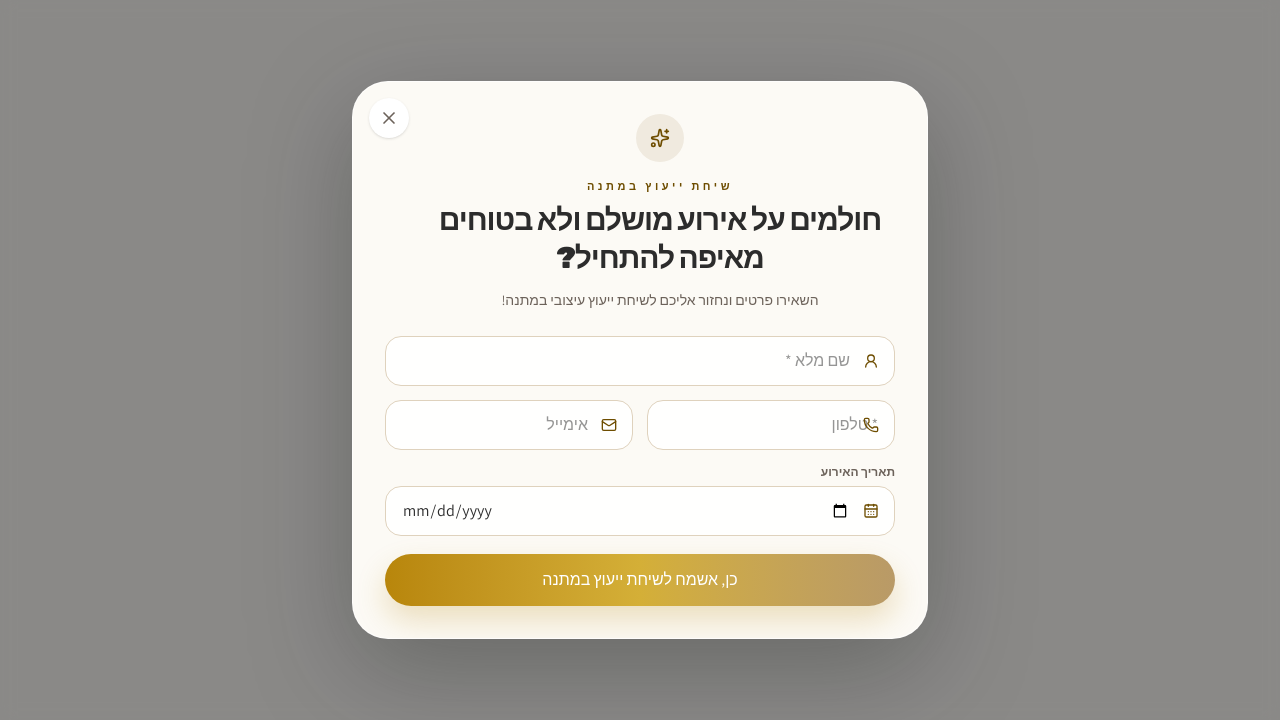
Scenario: LeadCaptureModal › shows a recoverable error when lead submission fails and re-enables submit
Type "ניסן סיני" into the field labelled "שם מלא" at (640, 361), box [385, 336, 895, 386]
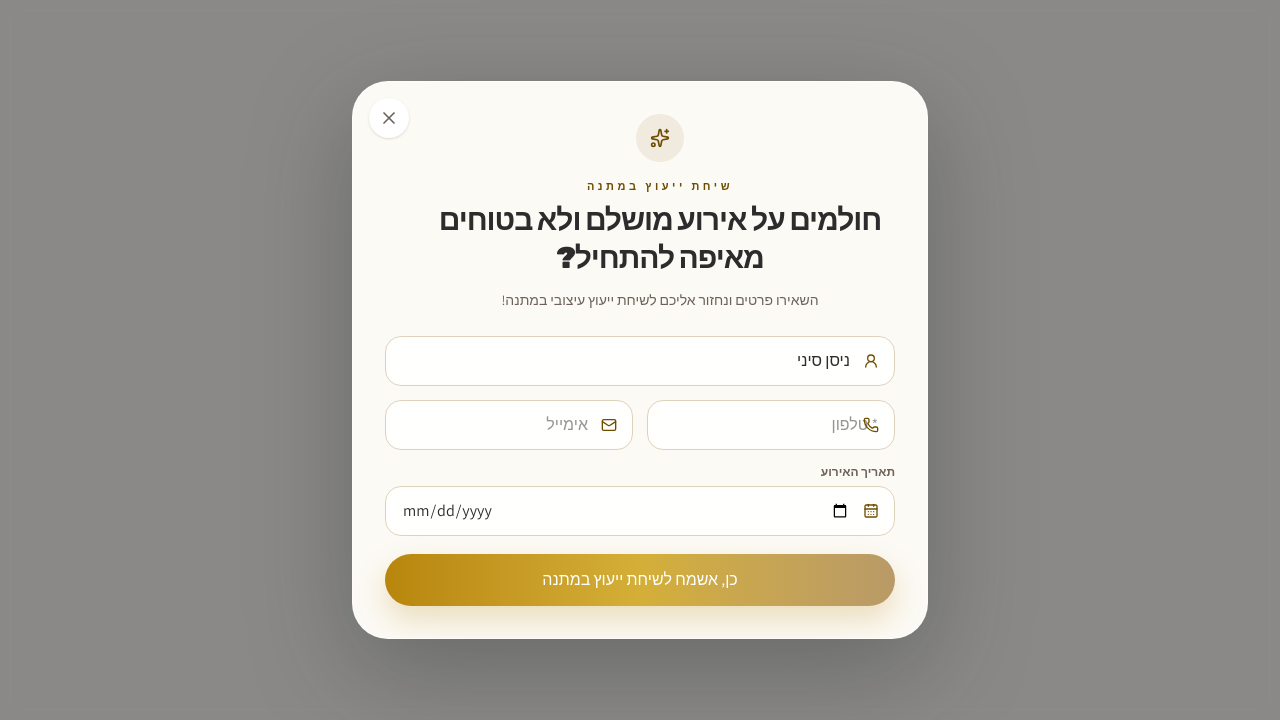
Type "054-1234567" into the field labelled "טלפון" at (771, 425), box [647, 400, 895, 450]
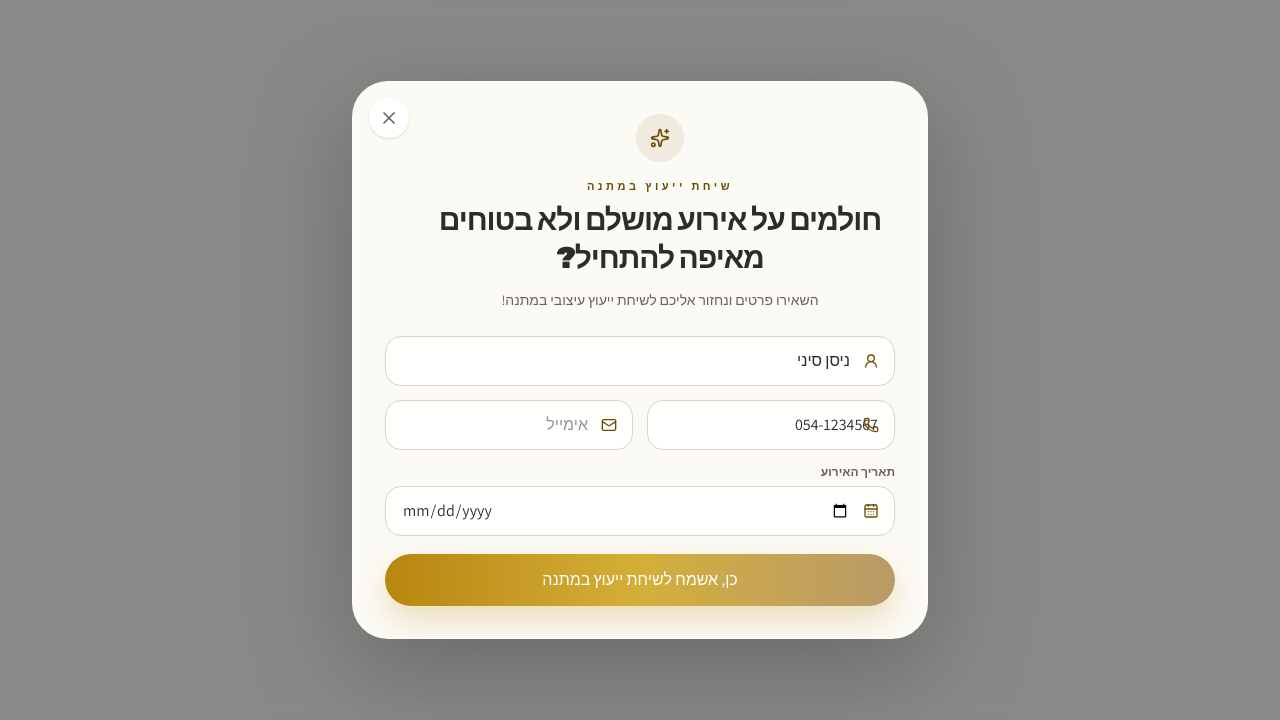
Click the button "כן, אשמח לשיחת ייעוץ במתנה" at (640, 580), box [385, 554, 895, 606]
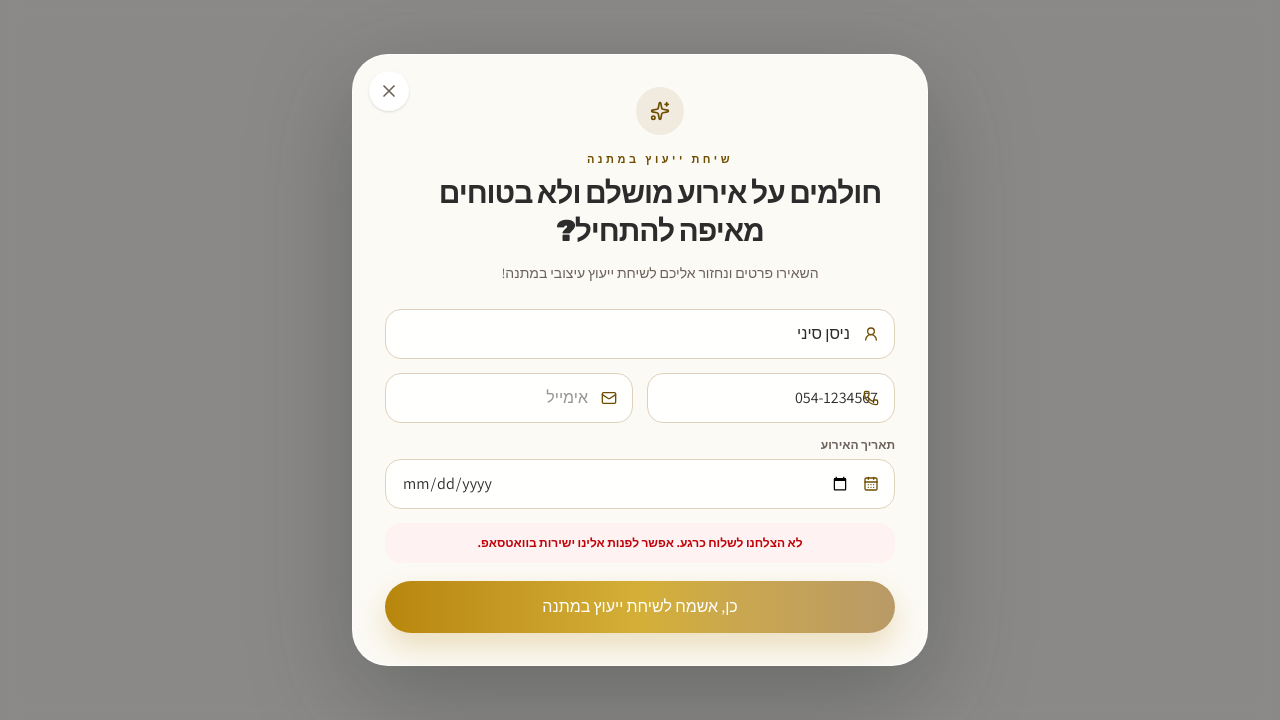
Check: the button "כן, אשמח לשיחת ייעוץ במתנה" is enabled, box [385, 581, 895, 633]
Check: the message shows "לא הצלחנו לשלוח כרגע", box [477, 535, 802, 550]
